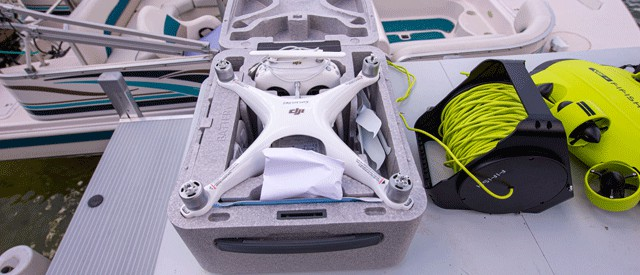maybay_khongnguoilai: (180, 46, 412, 219)
